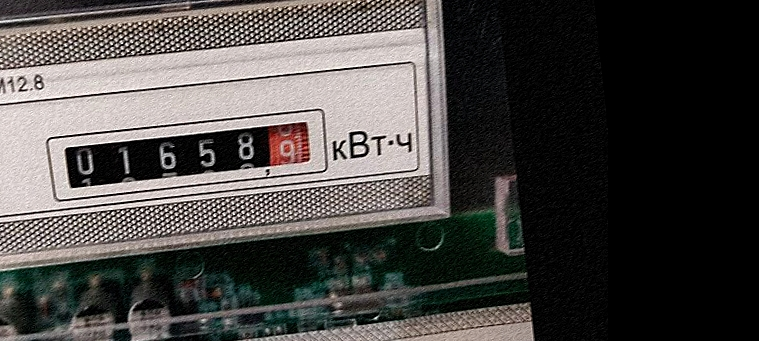0: (72, 144, 96, 178)
1: (116, 144, 132, 176)
5: (196, 136, 218, 170)
6: (156, 139, 179, 172)
8: (234, 130, 256, 163)
9: (275, 137, 296, 165)
screen: (37, 99, 335, 208)
